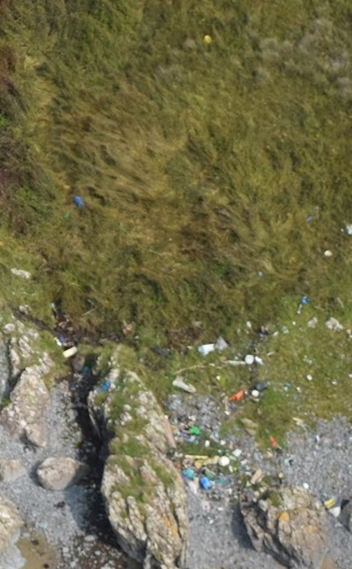scattered_barrel: (288, 208, 352, 317), (191, 334, 278, 408)
together_barrel: (171, 415, 290, 496)
white_in_green: (37, 322, 96, 378), (48, 177, 102, 226)
